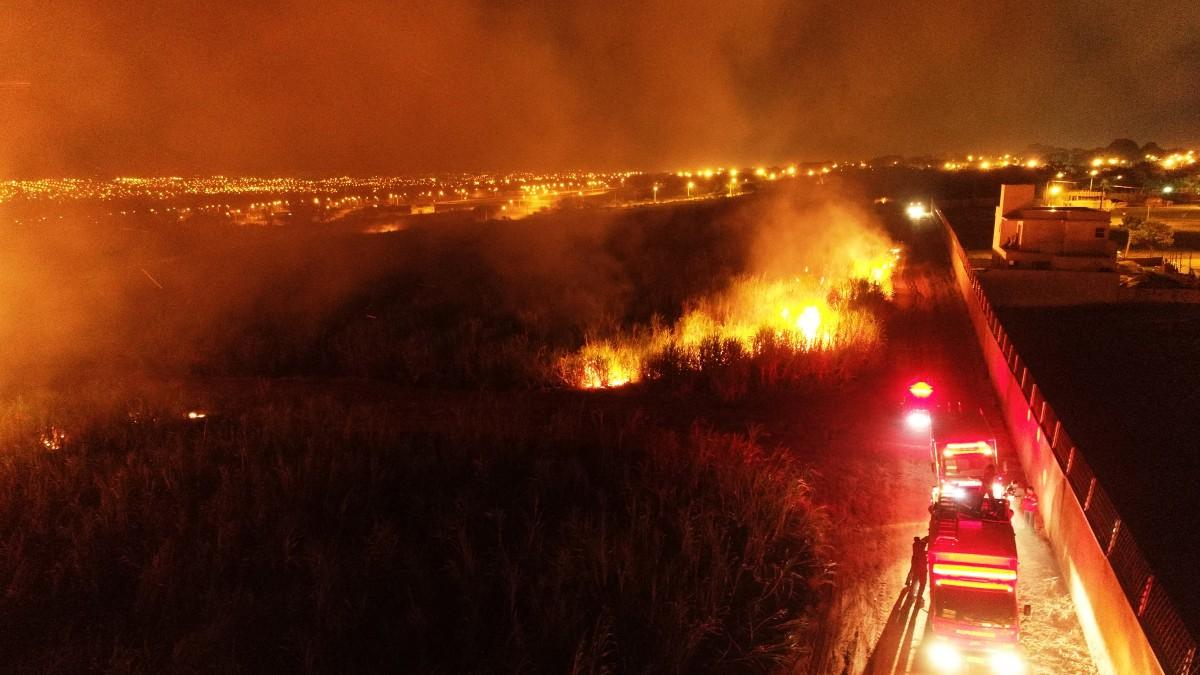Fire: (768, 298, 837, 353), (573, 355, 640, 393)
